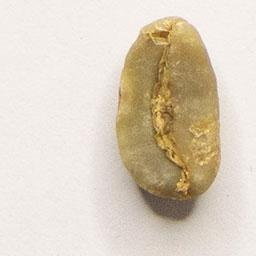longberry: (113, 13, 225, 206)
